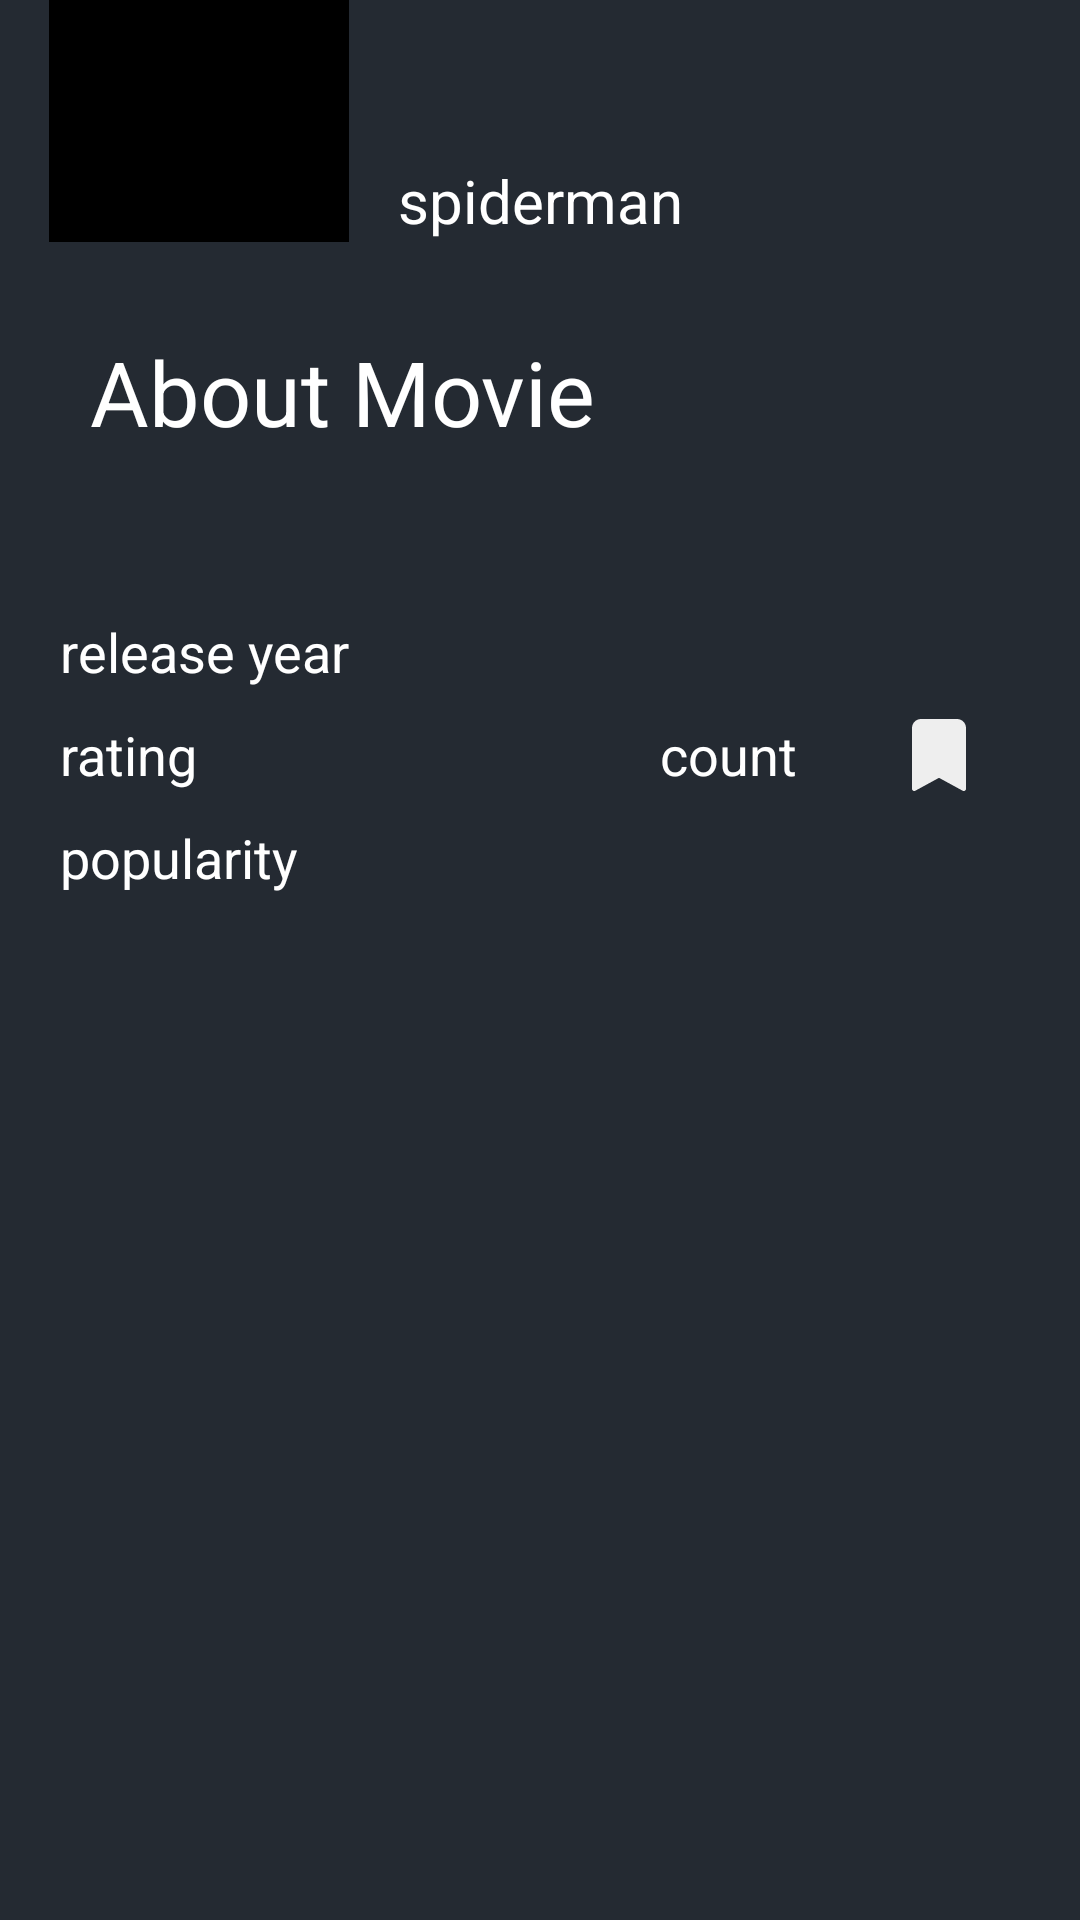

Icons on this 1080 × 1920 Android screen, each with the point to tap as point (x, y):
vectorbookmarknull: point (939, 755)
